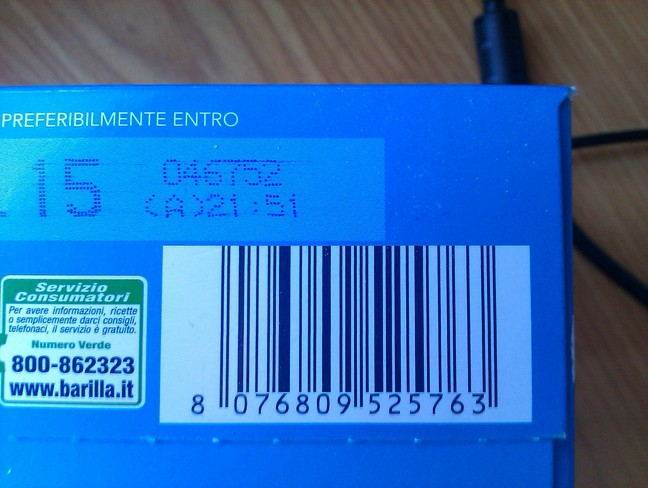detection: (160, 247, 531, 422)
